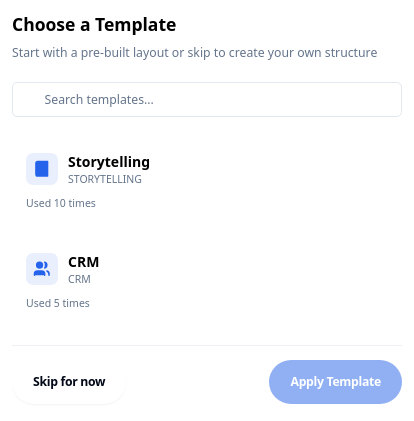
Test case: TemplateSelector › should filter templates by search
Expected: the heading "Storytelling" is shown, left=68, top=152, right=150, bottom=172
Search for "story"
Type "story" into the field with placeholder "Search templates...".
click(207, 100); type("story")  # box left=12, top=82, right=402, bottom=117
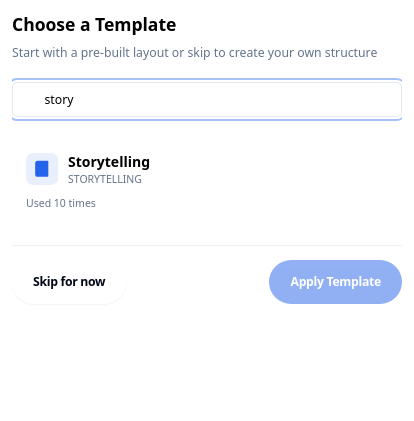
Expected: the heading "Storytelling" is shown, left=68, top=152, right=150, bottom=172
Expected: the button "CRM" is gone
